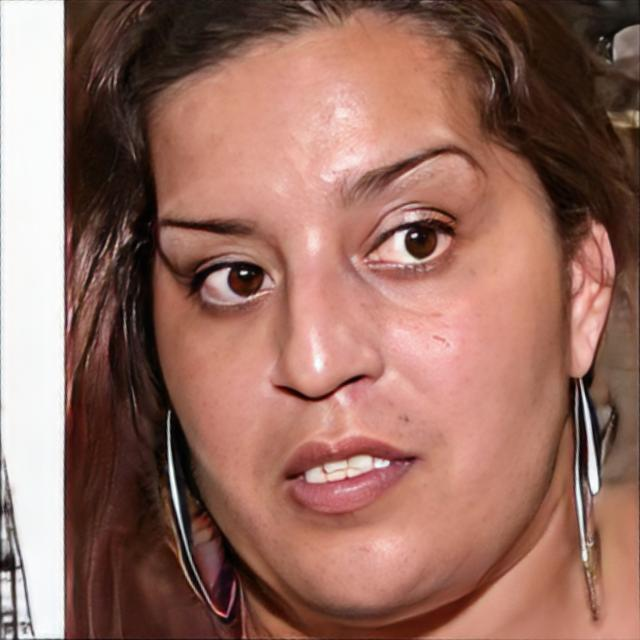surprise: (147, 5, 568, 629)
